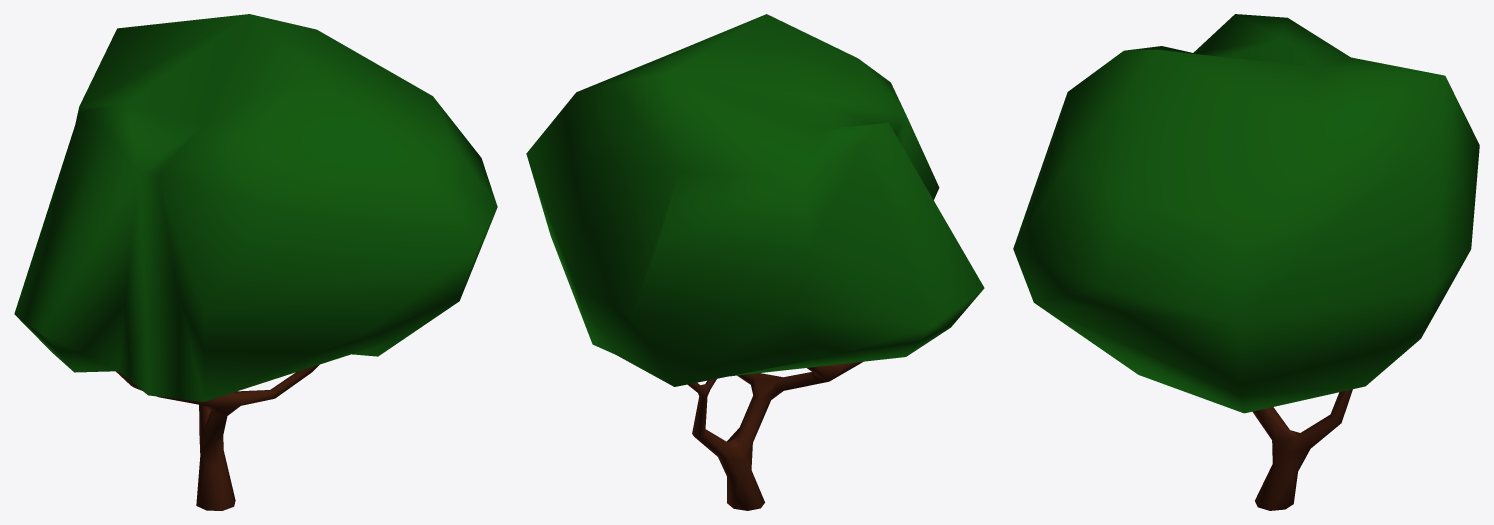
Rendered from lowpoly_tree_12.glb.
The picture shows the model from 3 angles, left to right: view 1: azimuth 30°, elevation 25°; view 2: azimuth 150°, elevation 25°; view 3: azimuth 270°, elevation 25°; orthographic projection. The views are drawn at different scales.
Bounding box in the file's own units: 1.52 × 1.46 × 1.32.
